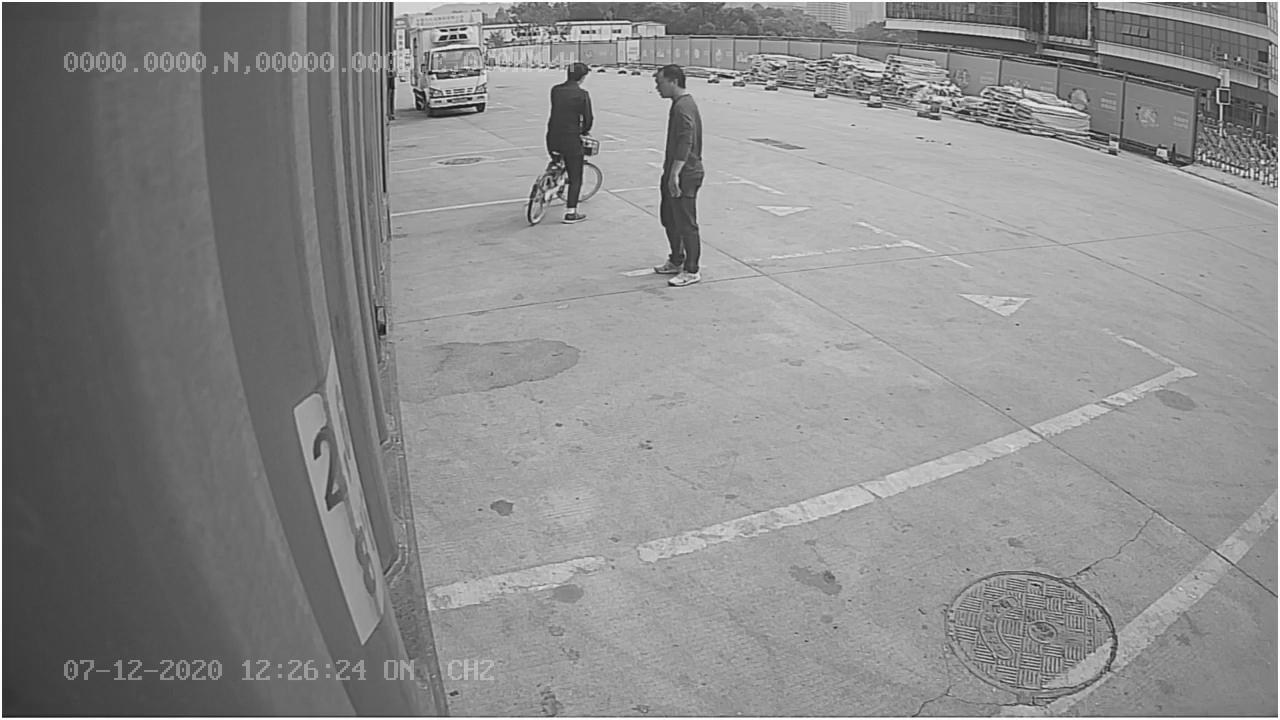person: (649, 56, 711, 286)
